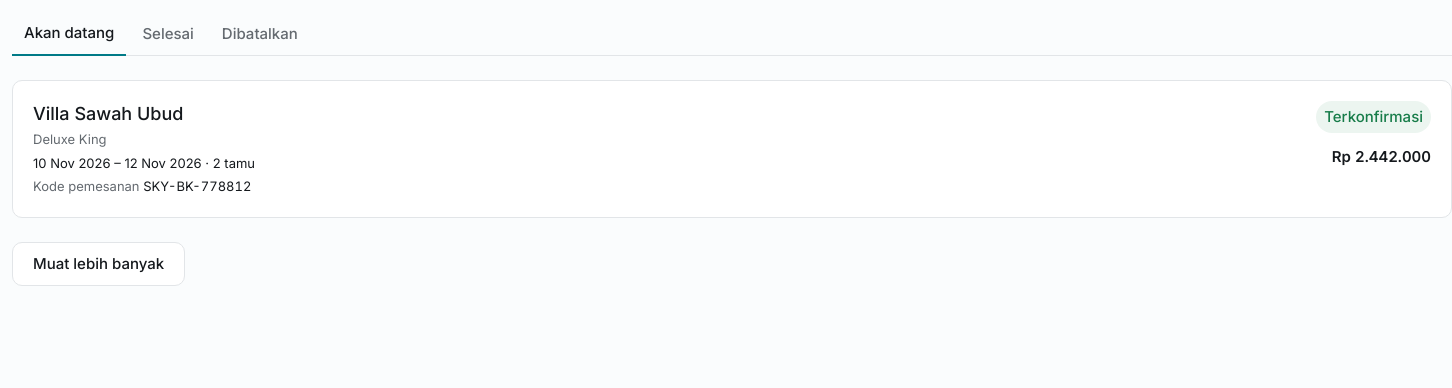
Test: daftar pemesanan › berhalaman: muat lebih banyak sampai habis
Step 1. Click the button "Muat lebih banyak" → (99, 264), box [12,242,185,286]
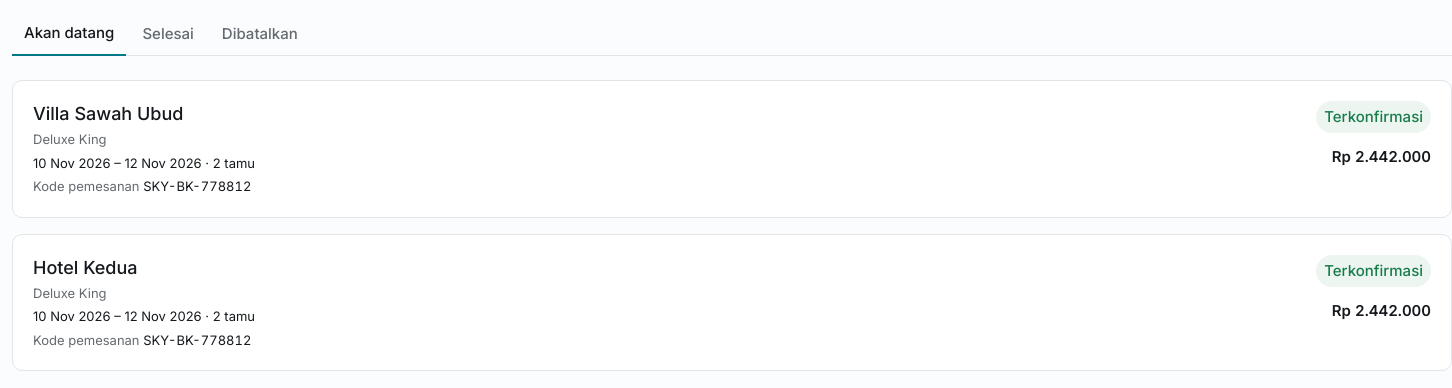
Result: the link "Hotel Kedua" is shown at [12,234,1451,371]
Result: the button "Muat lebih banyak" is gone
